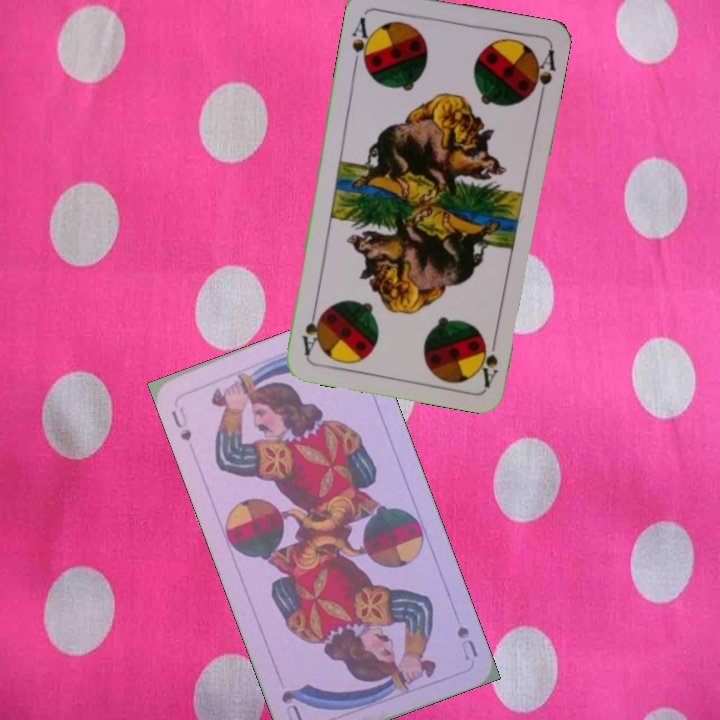SA: (348, 13, 376, 72), (476, 329, 501, 389)
SU: (452, 621, 481, 663), (167, 403, 194, 444)
